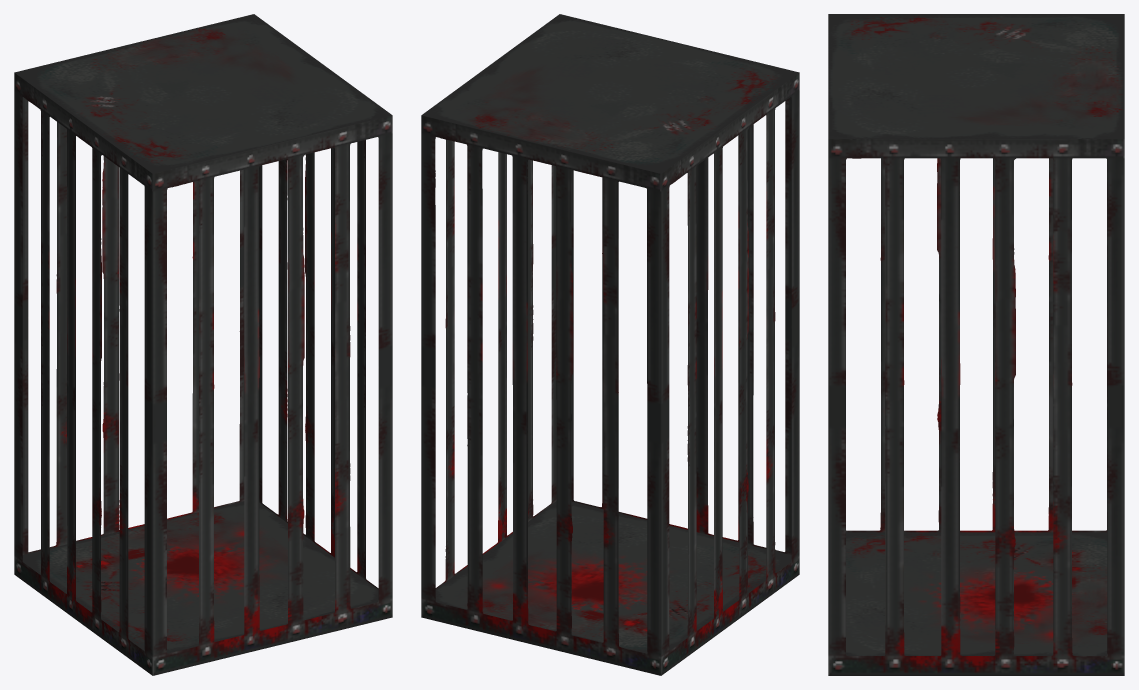
File: CageMedium.fbx
3 views of the same model, side by side, from view 1: azimuth 30°, elevation 25°; view 2: azimuth 150°, elevation 25°; view 3: azimuth 270°, elevation 25° (orthographic). The views are drawn at different scales.
Visible parts, largest first — view 1: cageMedium; view 2: cageMedium; view 3: cageMedium.
Boxes of the visible parts, bbox=[...] form: cageMedium: bbox=[14, 14, 392, 675]; cageMedium: bbox=[421, 14, 799, 675]; cageMedium: bbox=[828, 14, 1124, 675].
Size of the model in its own units: 200 by 400 by 200.
